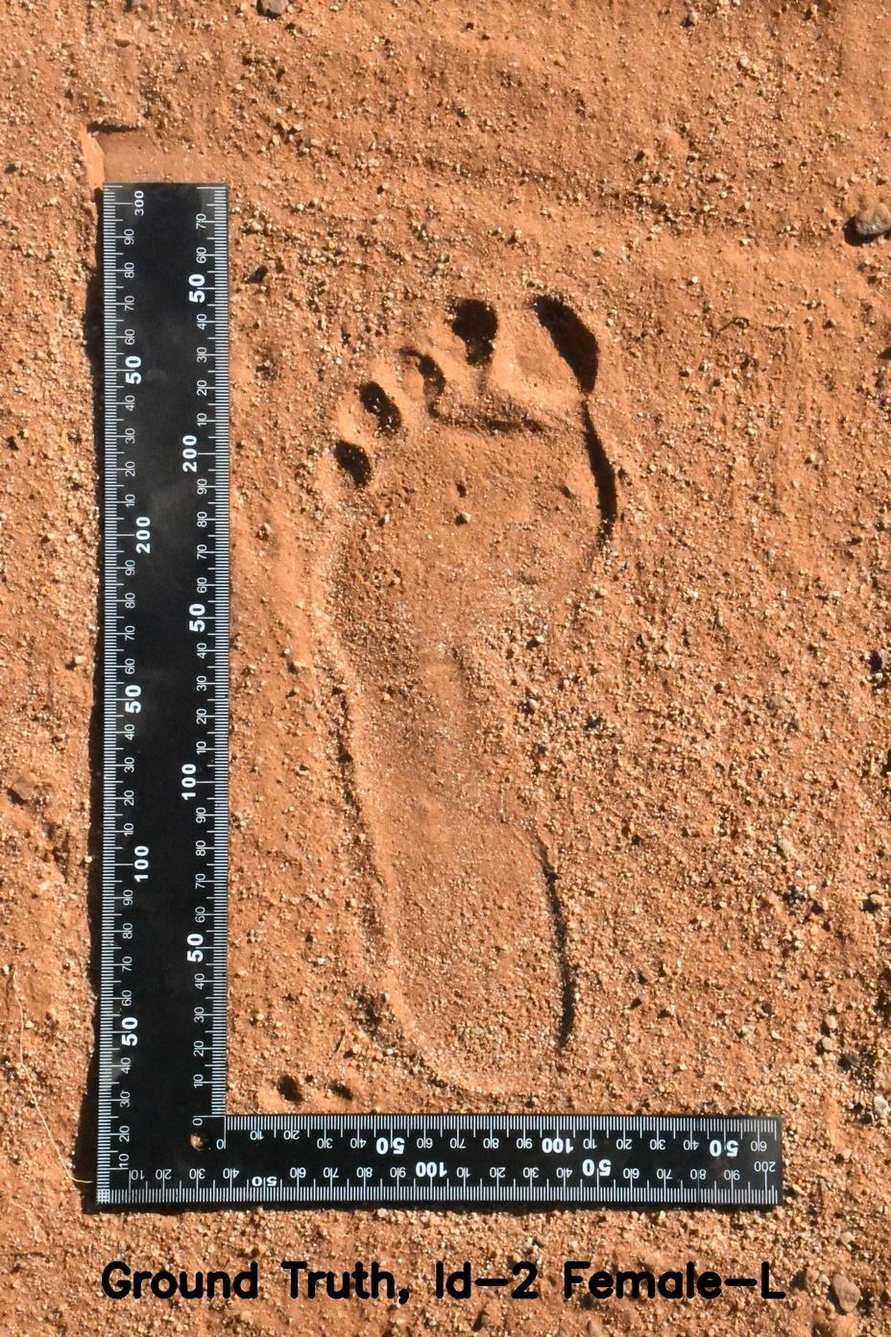human_footprint: (273, 257, 647, 1092)
